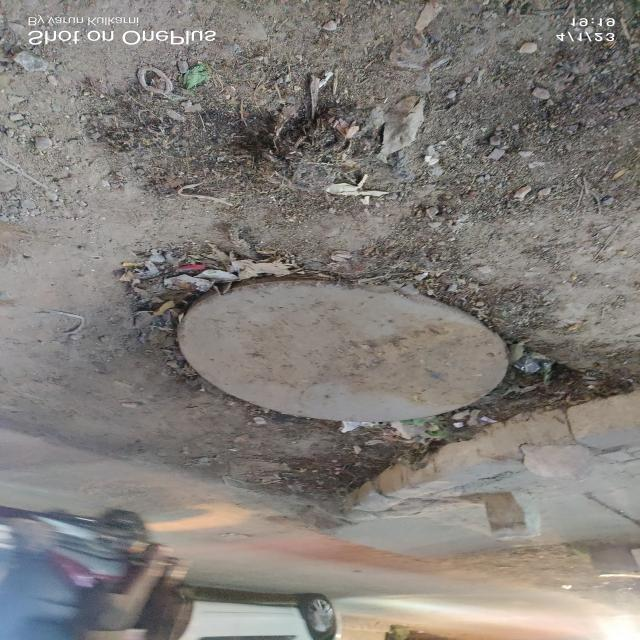manhole: (172, 272, 514, 428)
